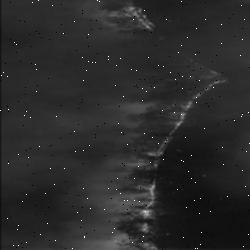fire: (124, 140, 169, 248), (103, 4, 160, 32)
